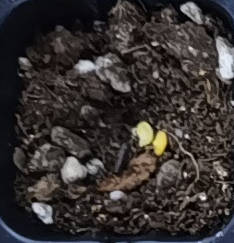pepper seed: (68, 50, 234, 207), (57, 47, 212, 195)
